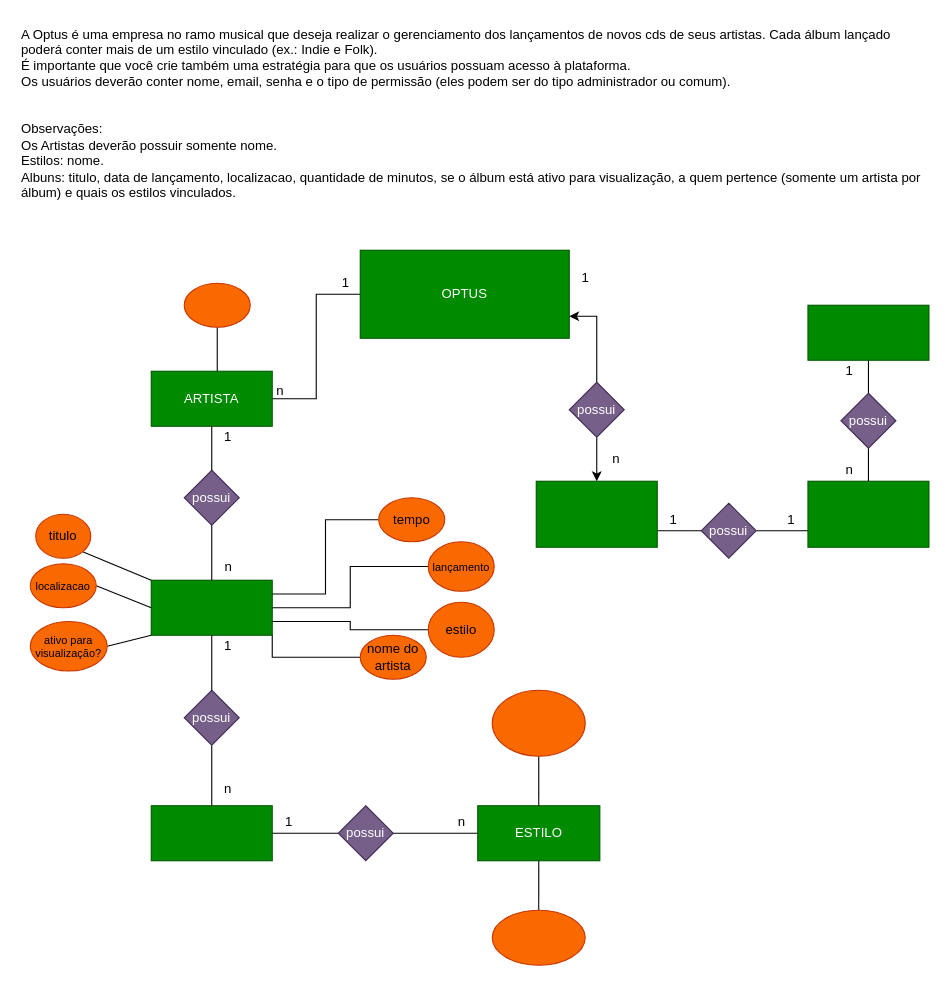
Some shapes in this 948 by 985 pixel diagram are drawn without their labels. Each missing label, with the box of its shape:
ALBUM: (150, 579, 272, 635)
CADASTRO: (807, 480, 929, 547)
CONTA: (535, 480, 657, 547)
folk: (491, 909, 585, 965)
indie: (491, 689, 585, 756)
MUSICA: (150, 805, 272, 861)
nome: (183, 282, 250, 327)
USUARIO: (807, 304, 929, 360)
